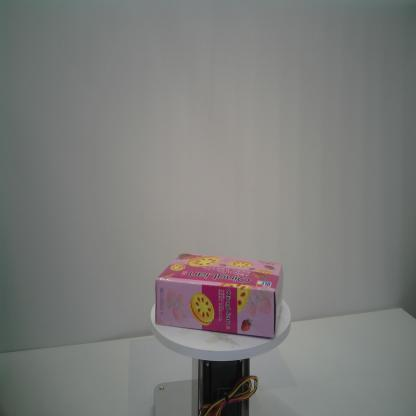Dessert: (150, 251, 285, 341)
